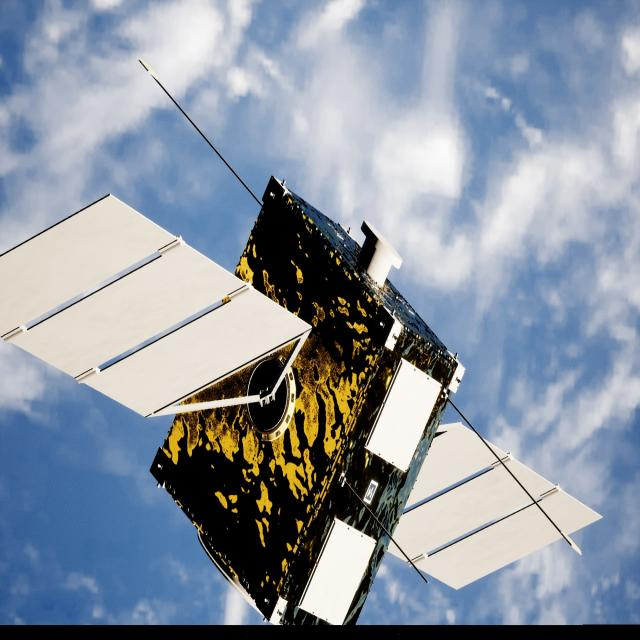satellite: (0, 178, 601, 628)
